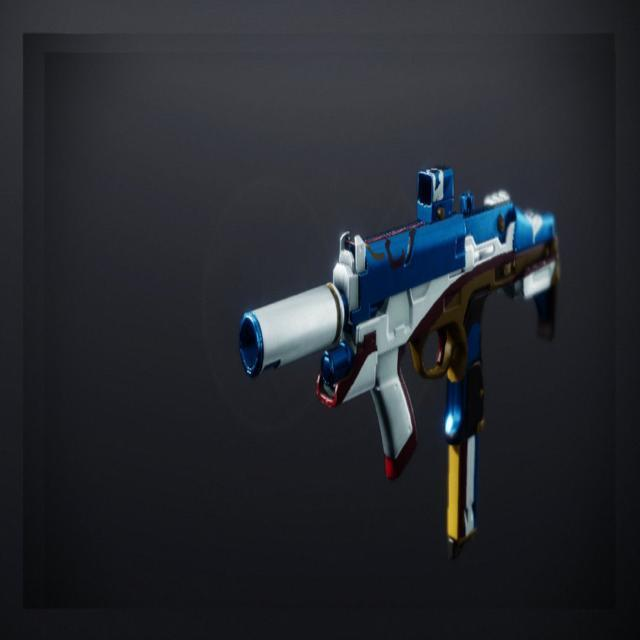scope: (404, 153, 455, 216)
smg: (235, 190, 580, 581)
